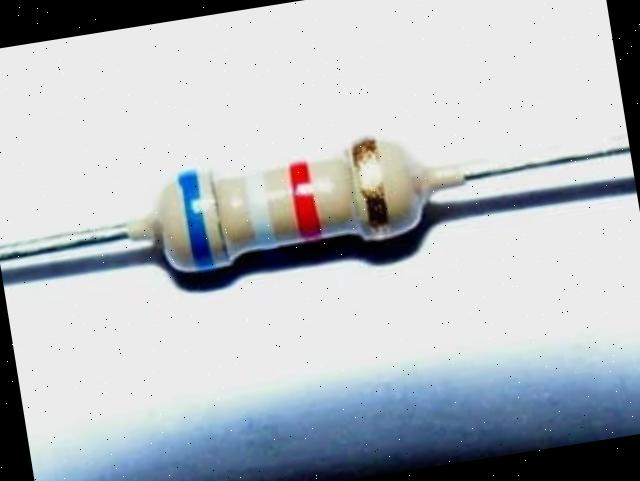blue: (178, 169, 212, 268), (182, 171, 214, 268)
gold: (355, 141, 388, 225), (243, 173, 276, 244)
red: (290, 162, 321, 238)
resistor: (113, 127, 450, 314)
silver: (244, 173, 276, 246)
